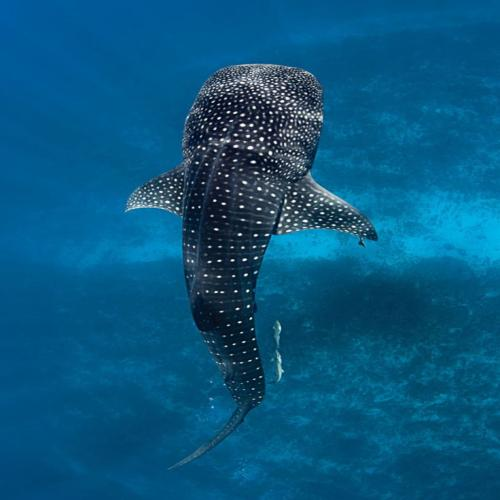shark-endangered: (122, 63, 379, 468)
